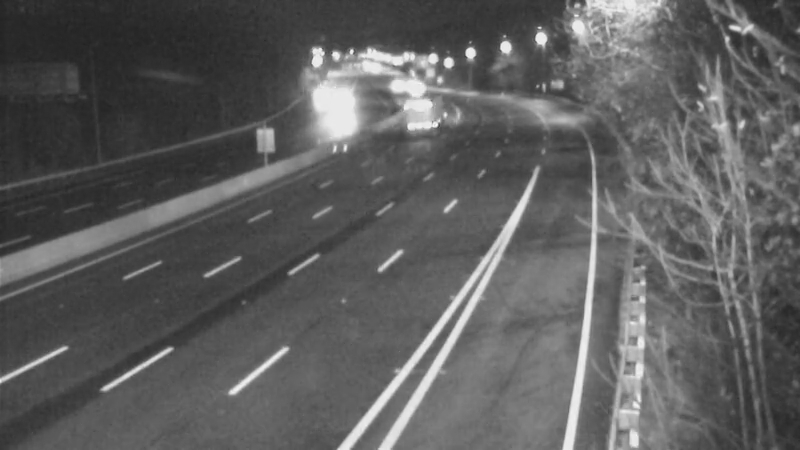vehicle: (399, 78, 449, 128), (311, 79, 361, 129)
